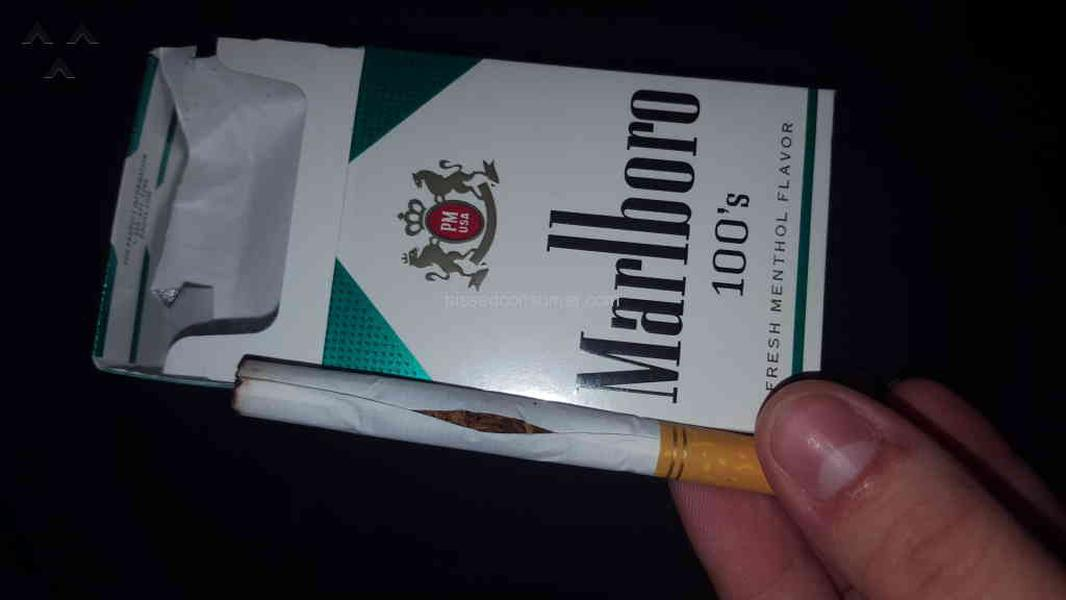marlboro_mentol: (224, 83, 819, 408)
